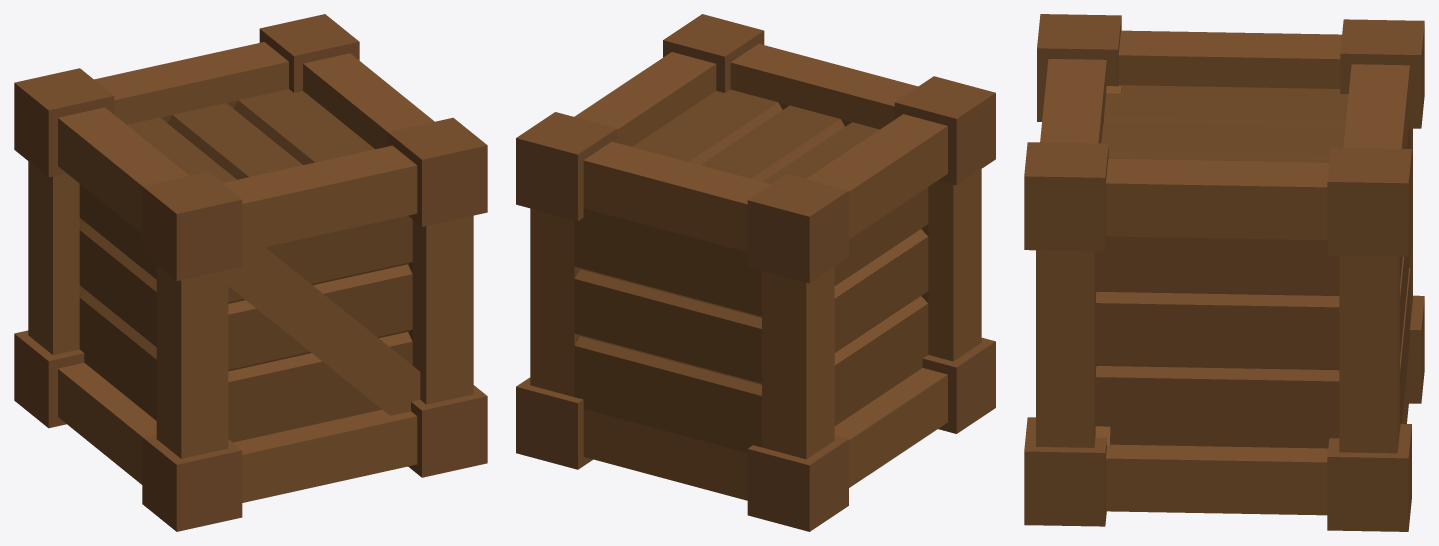
The model's file is crate.glb.
The picture shows the model from 3 angles, left to right: view 1: azimuth 30°, elevation 25°; view 2: azimuth 150°, elevation 25°; view 3: azimuth 270°, elevation 25°; orthographic projection. The views are drawn at different scales.
Parts seen in each view (by area): view 1: crate; view 2: crate; view 3: crate.
Part boxes in pixels (x1,y1,x2,y2): crate: (14, 14, 487, 531); crate: (516, 14, 995, 531); crate: (1024, 14, 1424, 531).
Size of the model in its own units: 0.8 by 0.7684 by 0.8.
